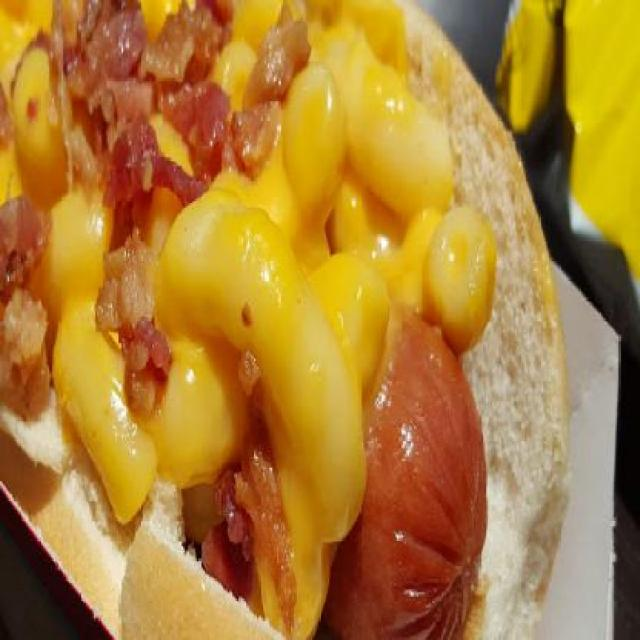hot dog: (361, 307, 485, 638)
macaroni and cheese: (1, 2, 354, 638)
